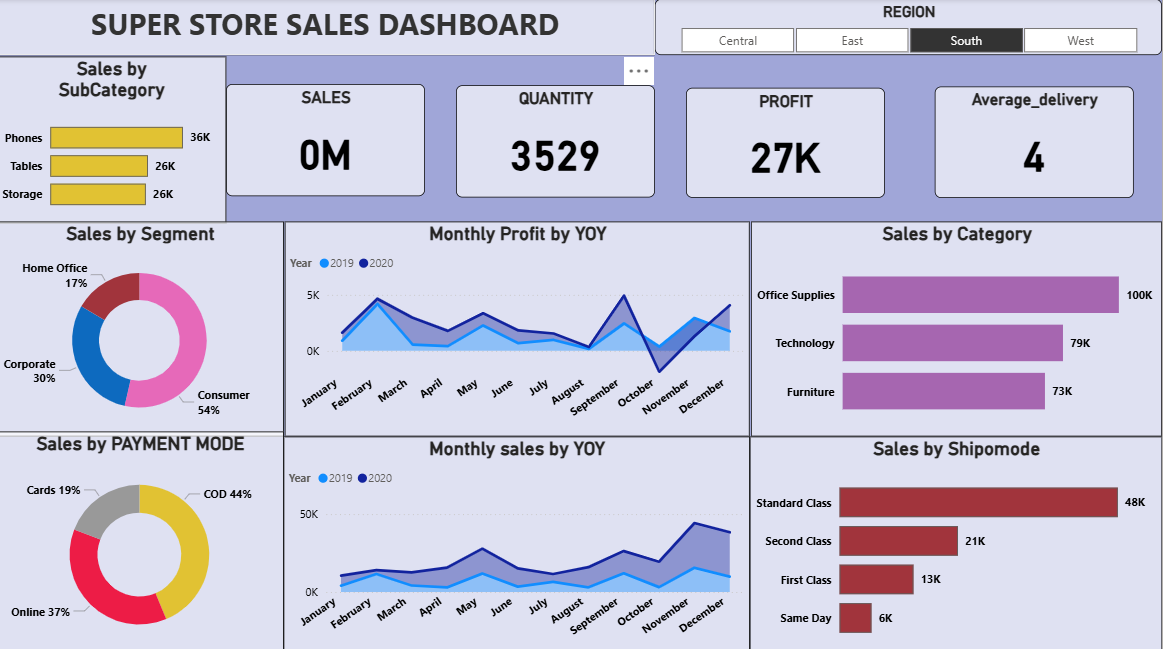

The page's visual inventory and layout, read from the dashboard file:
{"tool":"powerbi","page":{"name":"Page 1","canvas":[1280,720],"ordinal":0},"visuals":[{"type":"clusteredBarChart","title":" Sales by Category","fields":{"Category":["Sheet1.Category"],"Y":["Sum(Sheet1.Sales)"]},"box":[828.8,244.3,451.5,236],"z":0},{"type":"clusteredBarChart","title":" Sales by SubCategory","fields":{"Category":["Sheet1.Sub-Category"],"Y":["Sum(Sheet1.Sales)"]},"box":[0,62.8,252.6,183.3],"z":1000},{"type":"clusteredBarChart","title":" Sales by Shipomode","fields":{"Category":["Sheet1.Ship Mode"],"Y":["Sum(Sheet1.Sales)"]},"box":[827.4,480.3,452.8,240.1],"z":2000},{"type":"stackedAreaChart","title":"Monthly sales by YOY","fields":{"Category":["Sheet1.Order Date.Variation.Date Hierarchy.Month","Sheet1.Order Date.Variation.Date Hierarchy.Day"],"Y":["Sum(Sheet1.Sales)"],"Series":["Sheet1.Order Date.Variation.Date Hierarchy.Year"]},"box":[315.6,480.3,511.8,240.1],"z":3000},{"type":"stackedAreaChart","title":"Monthly Profit by YOY","fields":{"Category":["Sheet1.Order Date.Variation.Date Hierarchy.Month","Sheet1.Order Date.Variation.Date Hierarchy.Day"],"Y":["Sum(Sheet1.Profit)"],"Series":["Sheet1.Order Date.Variation.Date Hierarchy.Year"]},"box":[317,244.3,510.5,236],"z":4000},{"type":"donutChart","title":"Sales by Segment","fields":{"Category":["Sheet1.Segment"],"Y":["Sum(Sheet1.Sales)"]},"box":[0,244.3,315.6,236],"z":6000},{"type":"donutChart","title":"Sales by PAYMENT MODE","fields":{"Y":["Sum(Sheet1.Sales)"],"Category":["Sheet1.Payment Mode"]},"box":[0,474.8,315.6,245.6],"z":7000},{"type":"slicer","title":"REGION","fields":{"Values":["Sheet1.Region"]},"box":[723.2,0,557.1,61.7],"z":8000},{"type":"textbox","box":[0,0,723.2,61.7],"z":9000},{"type":"card","title":"SALES","fields":{"Values":["Sum(Sheet1.Sales)"]},"box":[252.5,93.3,218.2,123.5],"z":10000},{"type":"card","title":"PROFIT","fields":{"Values":["Sum(Sheet1.Profit)"]},"box":[757.5,97.4,218.2,120.8],"z":11000},{"type":"card","title":"QUANTITY","fields":{"Values":["Sum(Sheet1.Quantity)"]},"box":[505,94.7,218.2,123.5],"z":12000},{"type":"card","title":"Average_delivery","fields":{"Values":["Avg(Sheet1.Avgdeliveryday)"]},"box":[1030.5,96.1,218.2,122.1],"z":13000}]}

Visuals, with their boxes in screenshot pixels (x1, y1, x2, y2), scaled from the page's 1280x720 canvas onto the 1163x649 screenshot:
" Sales by Category" clusteredBarChart: bbox=(753, 220, 1162, 433)
" Sales by SubCategory" clusteredBarChart: bbox=(0, 57, 230, 222)
" Sales by Shipomode" clusteredBarChart: bbox=(752, 433, 1162, 648)
"Monthly sales by YOY" stackedAreaChart: bbox=(287, 433, 752, 648)
"Monthly Profit by YOY" stackedAreaChart: bbox=(288, 220, 752, 433)
"Sales by Segment" donutChart: bbox=(0, 220, 287, 433)
"Sales by PAYMENT MODE" donutChart: bbox=(0, 428, 287, 648)
"REGION" slicer: bbox=(657, 0, 1162, 56)
textbox: bbox=(0, 0, 657, 56)
"SALES" card: bbox=(229, 84, 428, 195)
"PROFIT" card: bbox=(688, 88, 887, 197)
"QUANTITY" card: bbox=(459, 85, 657, 197)
"Average_delivery" card: bbox=(936, 87, 1135, 197)
